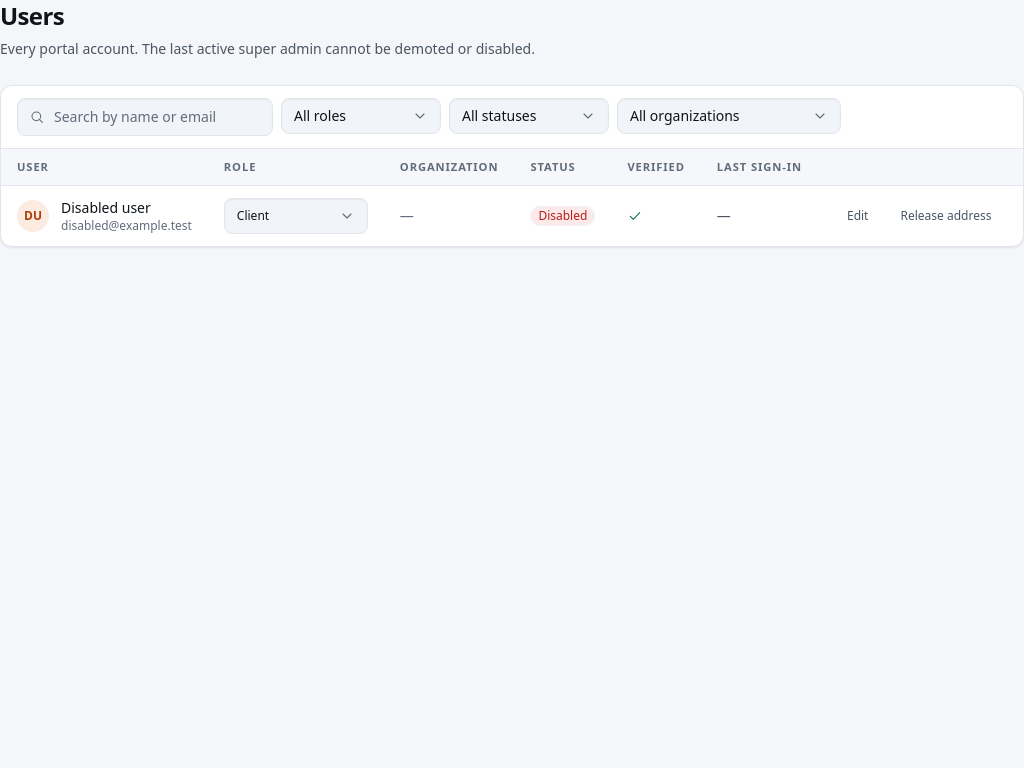
Test case: squatted address recovery › keeps release unavailable when recovery reads fail
The width and height of the screenshot is (1024, 768).
Click the button "Release address". click: (946, 216)
box: [888,200,1004,232]
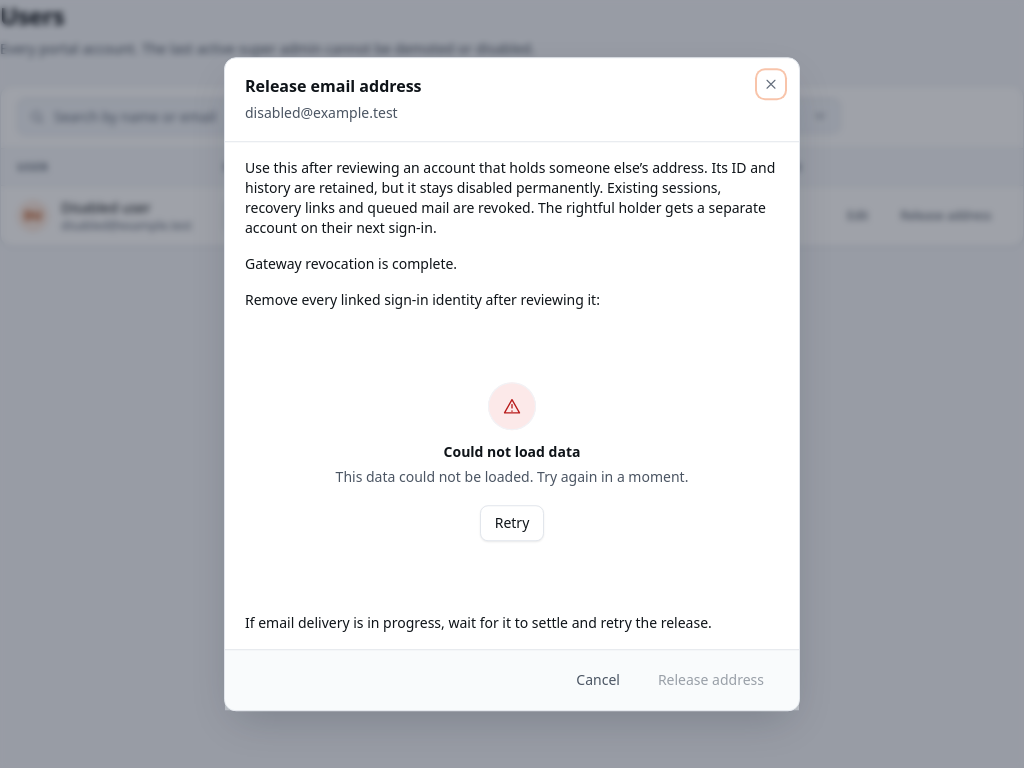
Now the button "Retry" is shown, box [480,505,544,541]
Now the button "Release address" is disabled, box [643,662,779,698]
